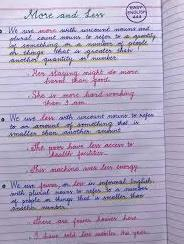text: (8, 175, 156, 192), (9, 191, 145, 207), (8, 38, 149, 52), (8, 32, 158, 45), (31, 212, 138, 228), (7, 186, 149, 198), (31, 228, 149, 242), (8, 111, 155, 122), (9, 119, 139, 131), (8, 47, 134, 59), (30, 140, 136, 154), (7, 24, 151, 34), (30, 67, 139, 80), (8, 126, 122, 138), (7, 54, 116, 66), (30, 90, 136, 102), (28, 164, 139, 175), (22, 8, 106, 20), (44, 76, 112, 88), (46, 150, 108, 160), (10, 204, 66, 212), (42, 99, 89, 107), (127, 9, 147, 16), (130, 4, 142, 10), (132, 14, 142, 19)
